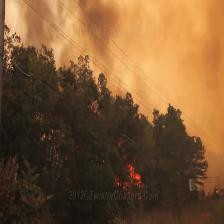fire: (95, 129, 166, 200)
smoke: (3, 3, 224, 105)
